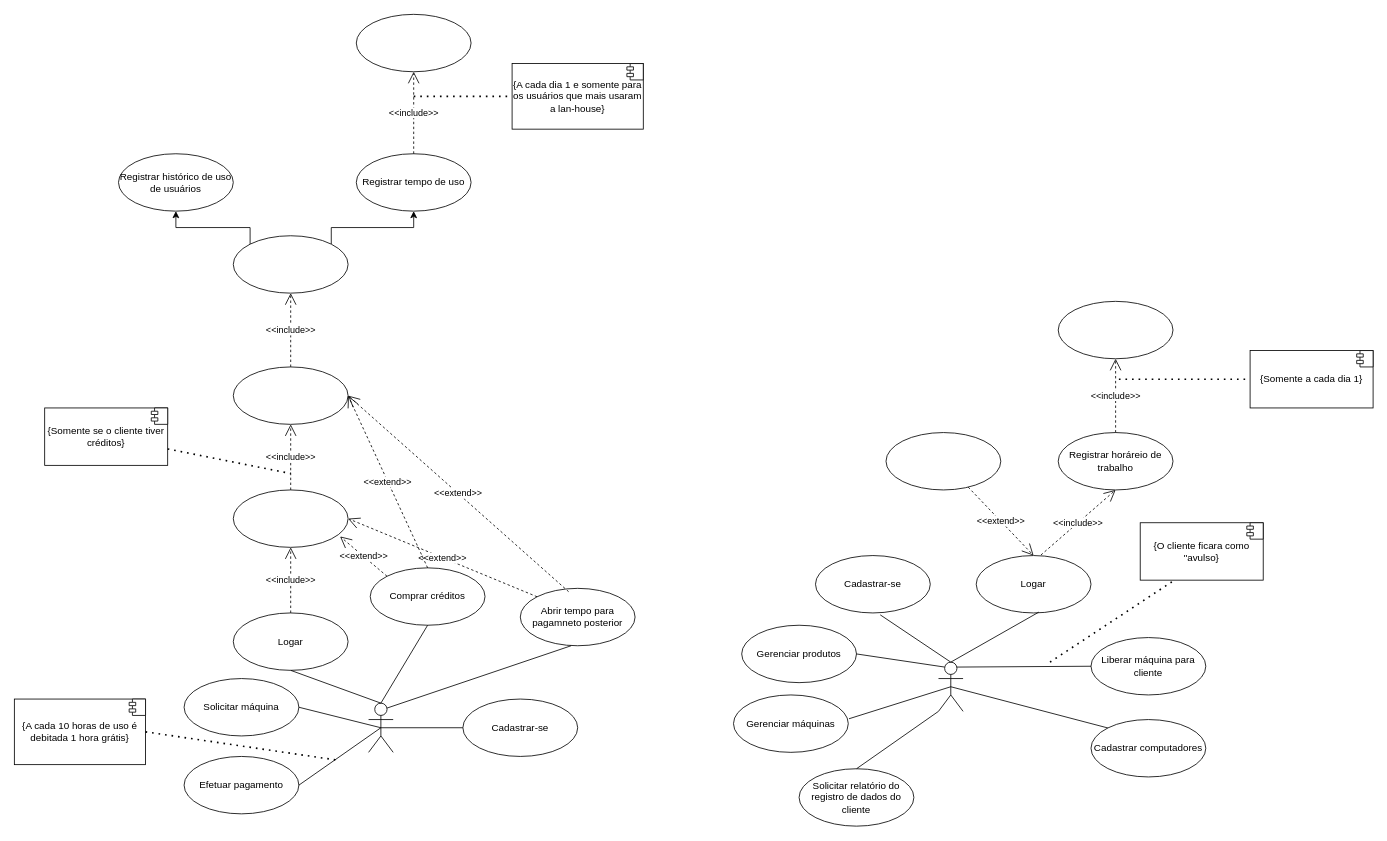
The diagram is 1387 pixels wide and 841 high, and some of its shapes have lost their labels. The shapes that lost their labels are listed below. From the top down, each one's centre as x and y in pixels, then its label:
point (413, 43): Emitir relatório de "usuário ninja"
point (290, 264): Registrar dados
point (1115, 330): Emitir relatório de frequencia
point (290, 395): Liberar máquina
point (943, 461): Usar módulo administrativo
point (290, 518): Verificar se tem crédito
point (950, 686): Atendente
point (380, 727): Cliente
